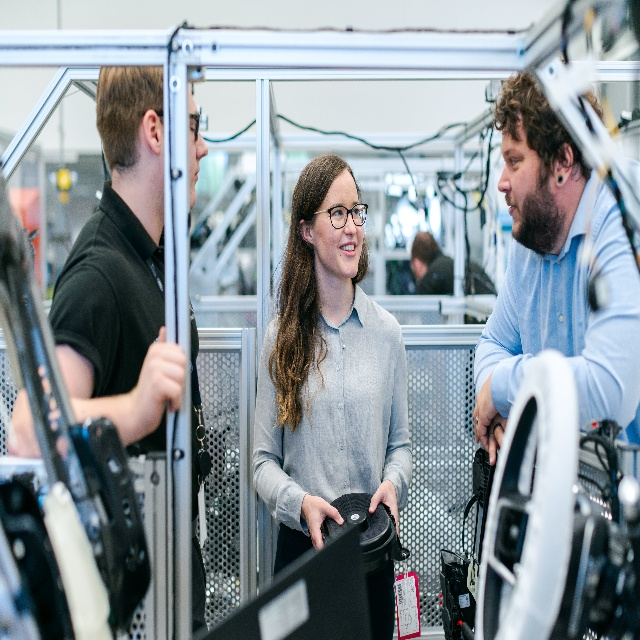Gafas: (155, 108, 200, 141), (314, 203, 368, 229)
Sin_guantes: (136, 325, 187, 438), (306, 495, 344, 554), (472, 371, 497, 451), (368, 479, 400, 537), (488, 408, 509, 466)
